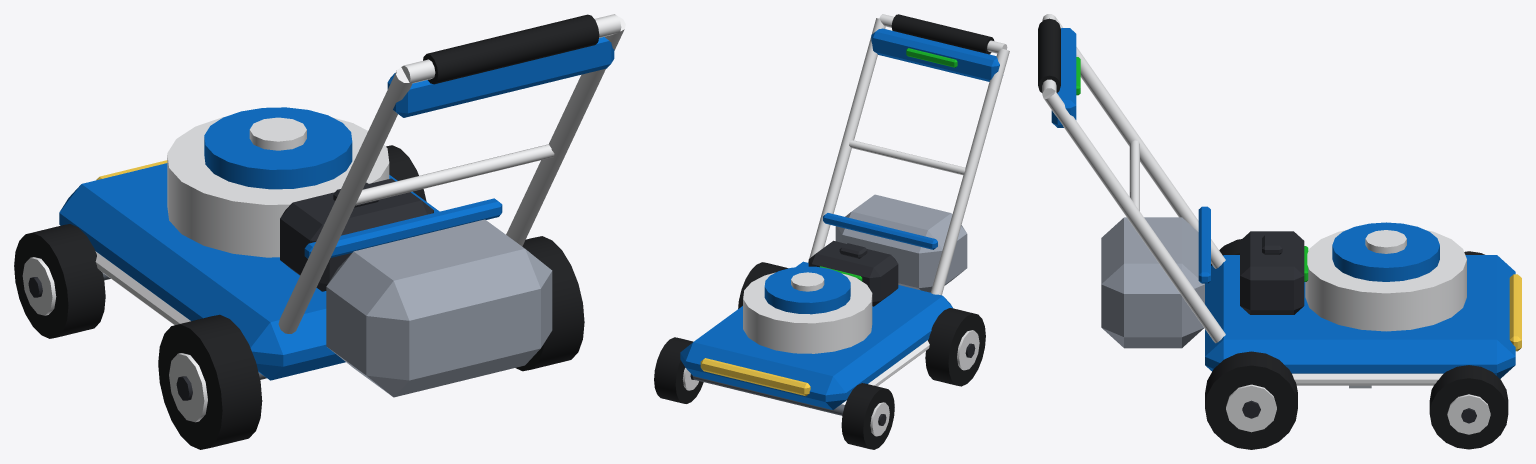
File: mower_electric.fbx
The picture shows the model from 3 angles, left to right: view 1: azimuth 30°, elevation 25°; view 2: azimuth 150°, elevation 25°; view 3: azimuth 270°, elevation 25°; orthographic projection. The views are drawn at different scales.
Visible parts, largest first — view 1: Body, Wheel_RL, Wheel_FL, Wheel_RR, Wheel_FR; view 2: Body, Wheel_RL, Wheel_FL, Wheel_FR, Wheel_RR; view 3: Body, Wheel_RR, Wheel_FR.
Boxes of the visible parts, box(x1,y1,x2,y2) form: Body: box(59, 14, 625, 397); Wheel_RL: box(158, 314, 262, 449); Wheel_FL: box(14, 224, 105, 338); Wheel_RR: box(516, 236, 584, 371); Wheel_FR: box(386, 145, 426, 201); Body: box(680, 14, 1009, 415); Wheel_RL: box(925, 308, 985, 386); Wheel_FL: box(841, 383, 894, 449); Wheel_FR: box(654, 337, 703, 403); Wheel_RR: box(738, 262, 788, 308); Body: box(1038, 14, 1521, 385); Wheel_RR: box(1205, 351, 1297, 449); Wheel_FR: box(1429, 365, 1508, 449).
Bounding box in the file's own units: 3.04 × 3.61 × 4.67.
